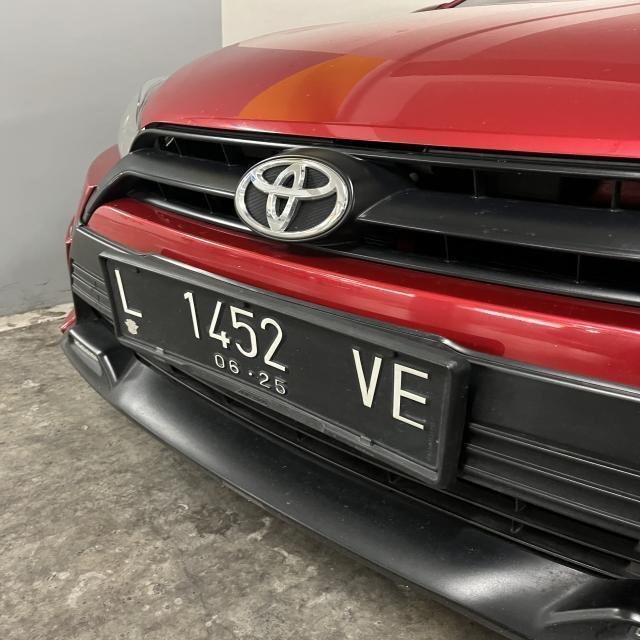1: (178, 288, 204, 342)
2: (260, 314, 292, 371)
4: (203, 296, 229, 350)
5: (229, 303, 260, 364)
E: (389, 358, 427, 434)
L: (108, 264, 149, 326)
V: (350, 346, 384, 410)
